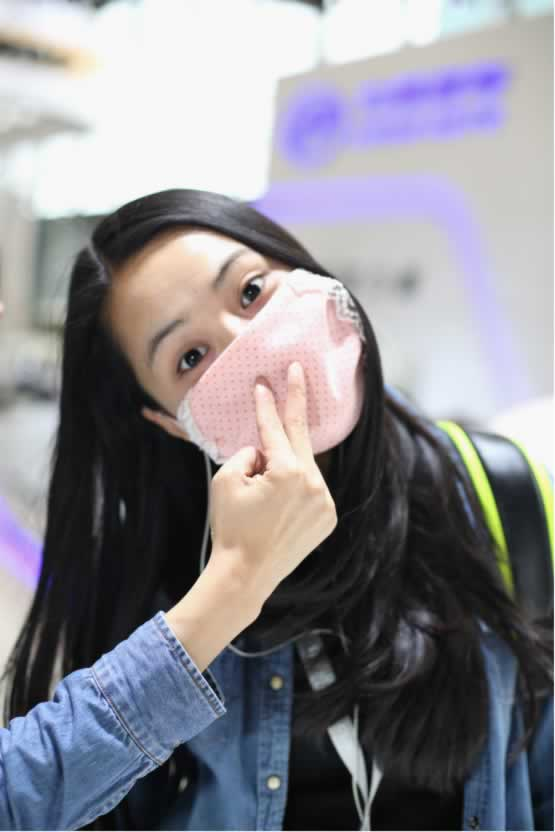face_mask: (132, 232, 333, 478)
